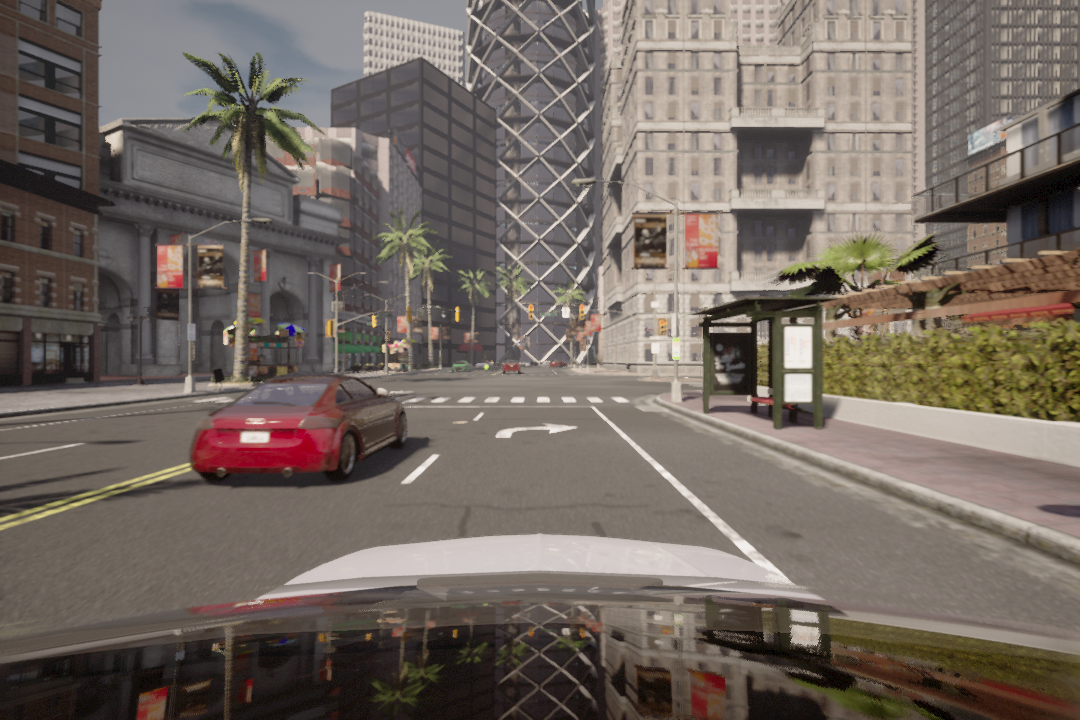RoadSign_right: (493, 418, 582, 442)
walkside: (191, 390, 633, 408)
